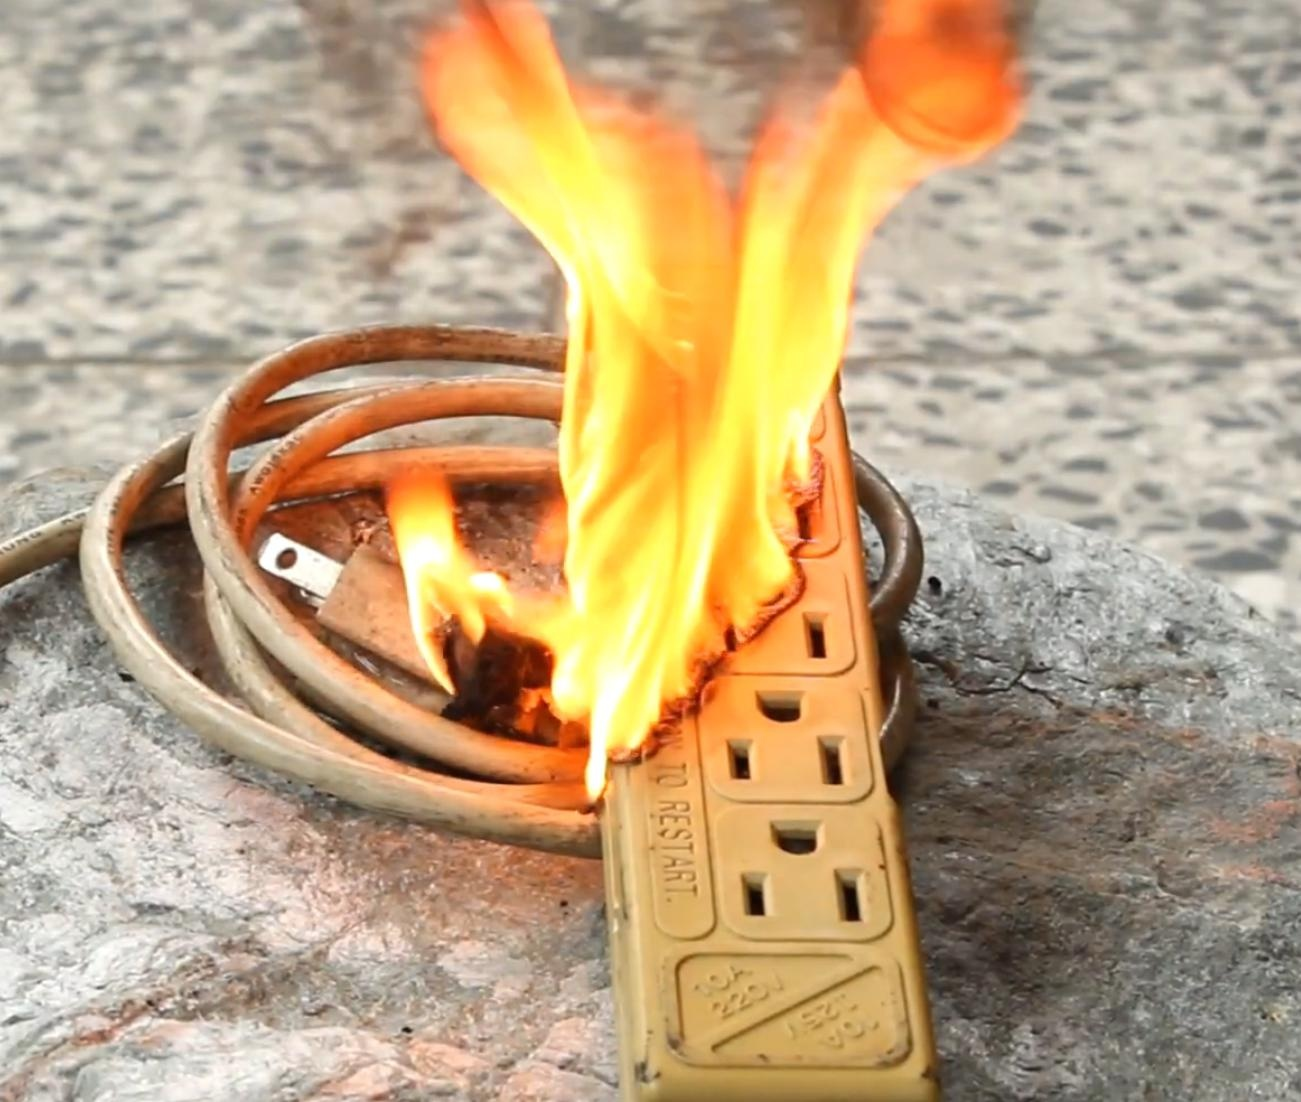fire: (337, 4, 931, 782)
